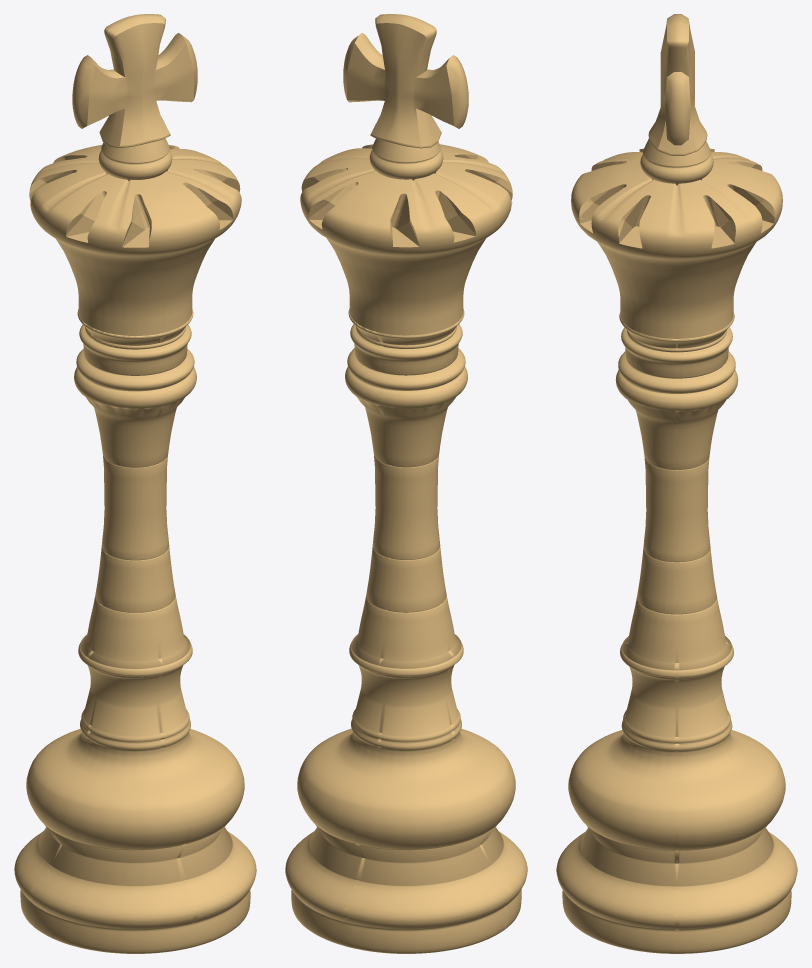
Rendered from king_chess__piece_-_high_poly.glb.
3 views of the same model, side by side, from view 1: azimuth 30°, elevation 25°; view 2: azimuth 150°, elevation 25°; view 3: azimuth 270°, elevation 25° (orthographic).
Parts seen in each view (by area): view 1: Piece; view 2: Piece; view 3: Piece.
Part boxes in pixels (x1,y1,x2,y2): Piece: (14,14,256,953); Piece: (285,14,527,953); Piece: (556,14,797,953).
Size of the model in its own units: 2.67 by 10.83 by 2.67.
